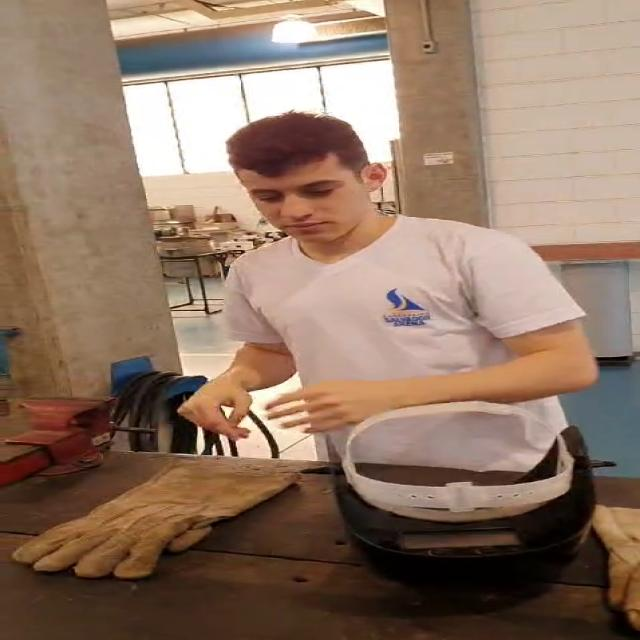sem_oculos: (230, 177, 390, 205)
